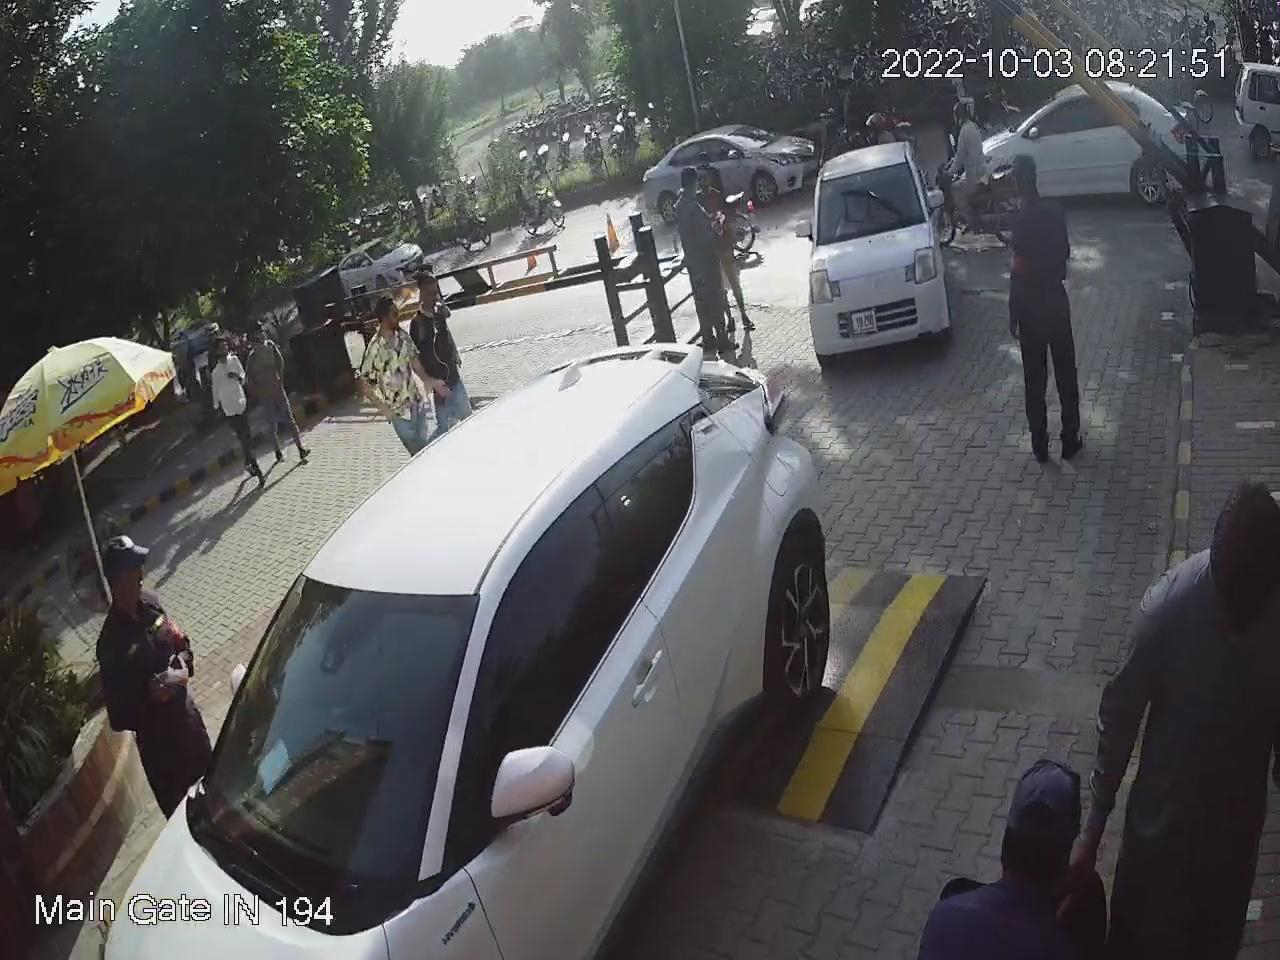windshield: (188, 580, 486, 908), (815, 157, 925, 247)
